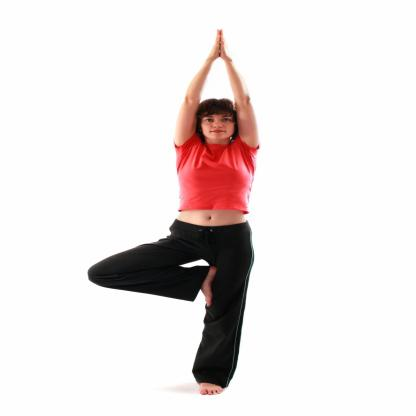tree: (80, 24, 284, 400)
